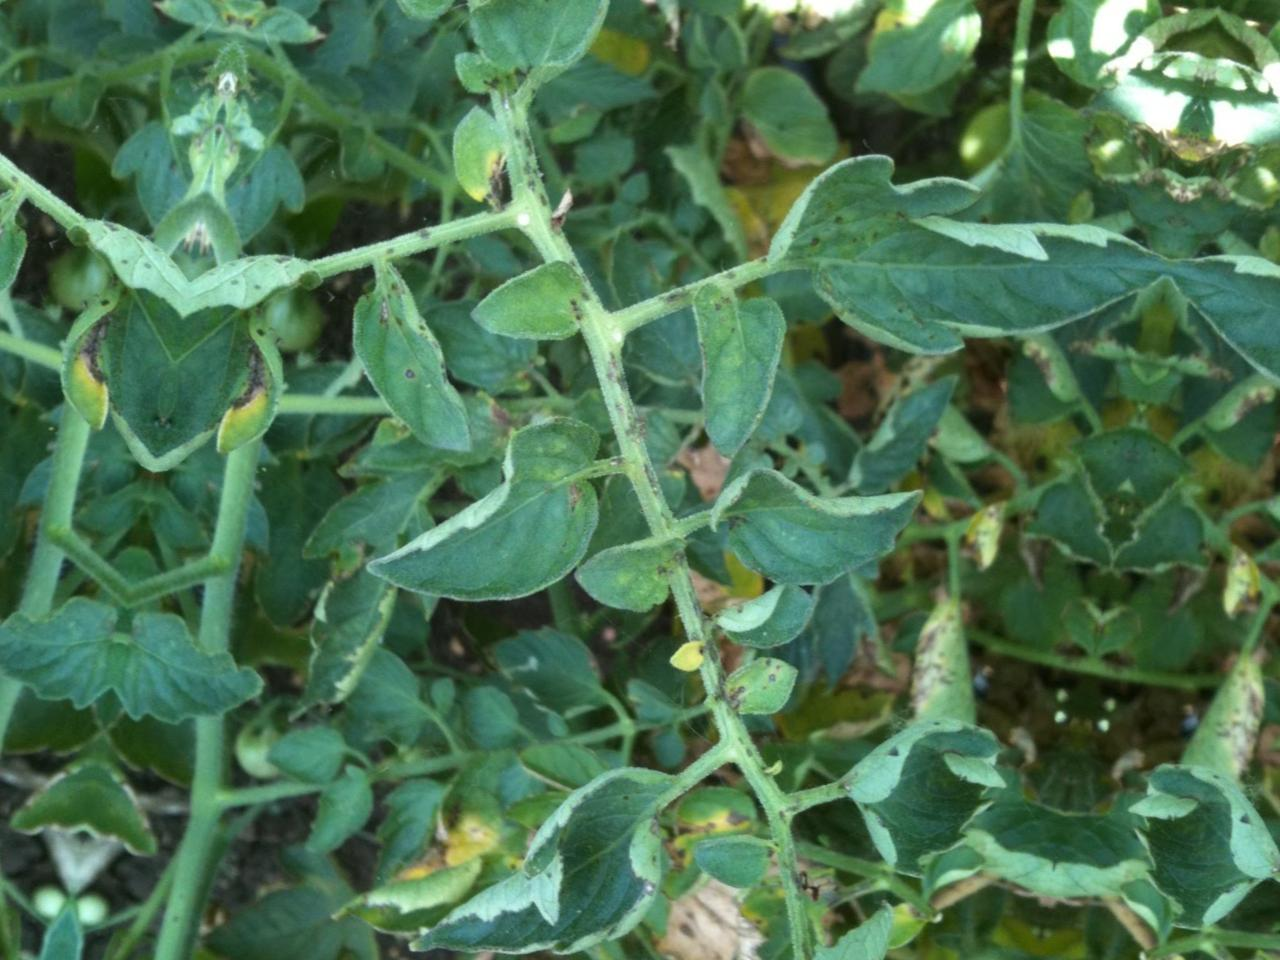Tomato leaf bacterial spot: (757, 107, 1169, 404), (385, 681, 747, 960), (372, 381, 621, 643), (646, 248, 827, 501), (308, 245, 508, 467), (453, 0, 642, 156), (703, 638, 820, 755), (293, 0, 521, 44)
